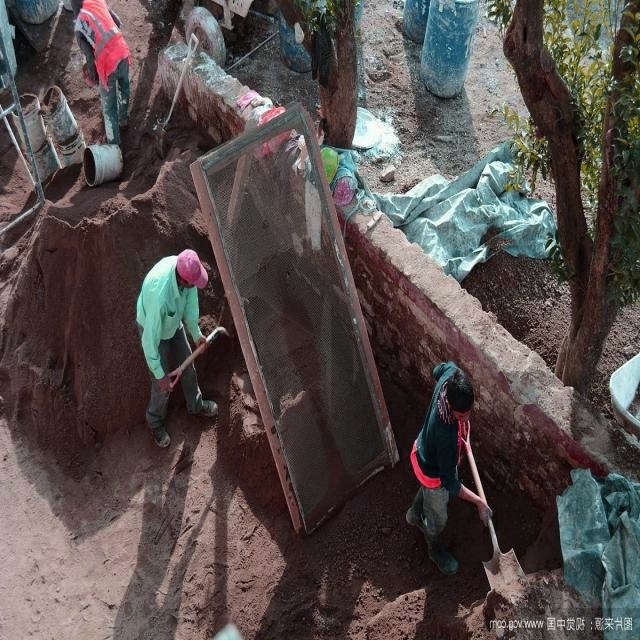Sin_Casco_Mascarrilla: (446, 370, 476, 421), (179, 248, 208, 295)
